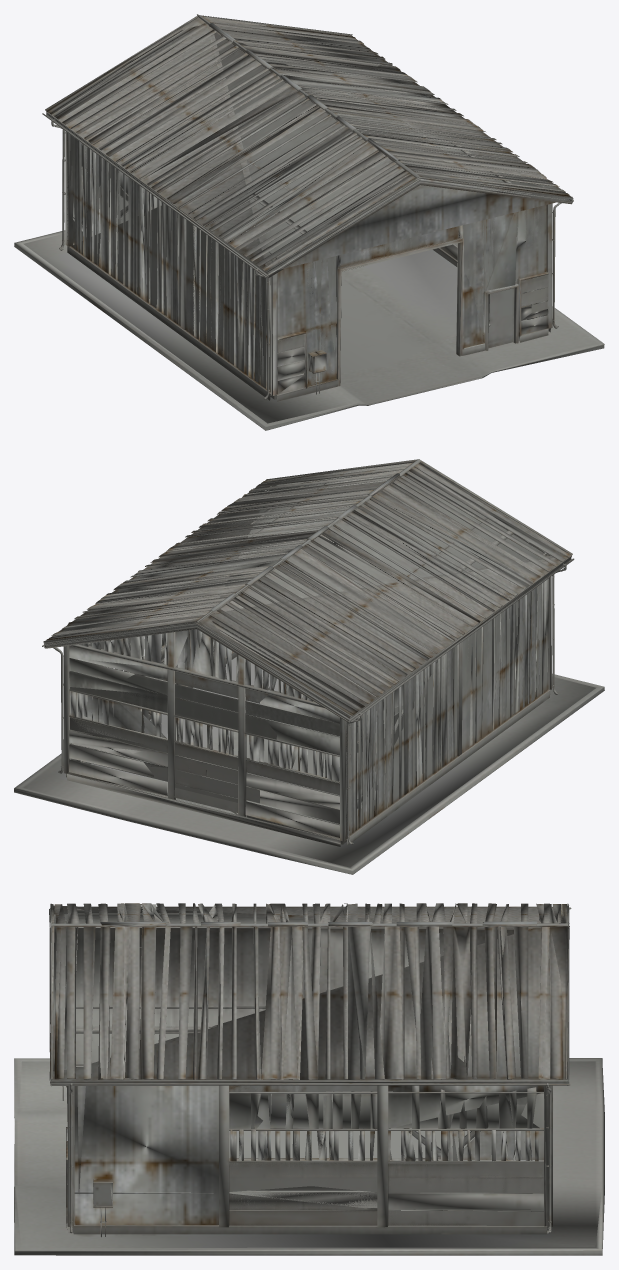
The model's file is halli_meshy.glb.
3 views of the same model, one above another, from view 1: azimuth 30°, elevation 25°; view 2: azimuth 150°, elevation 25°; view 3: azimuth 270°, elevation 25° (orthographic). The views are drawn at different scales.
Size of the model in its own units: 11.72 by 6.7 by 15.13.
1 material, 1 textured.
